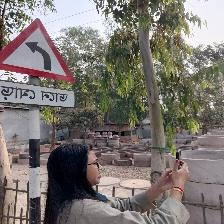Right-turn: (0, 18, 77, 109)
